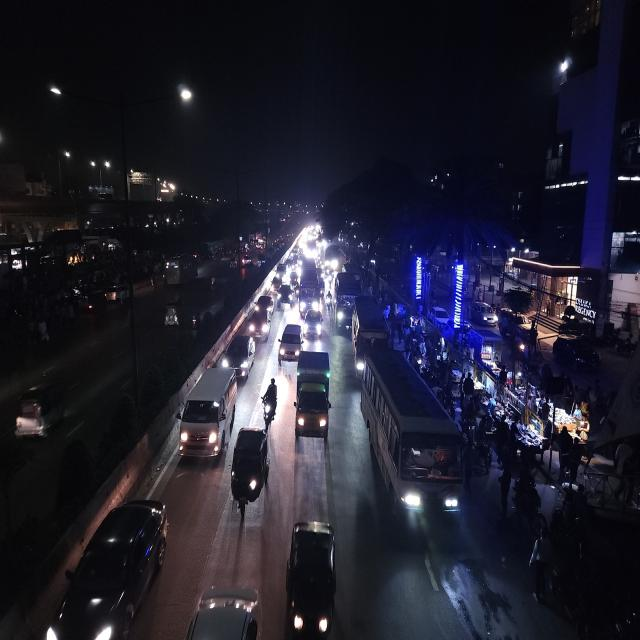bus: (361, 344, 465, 545), (348, 295, 388, 374), (334, 270, 360, 332), (300, 262, 320, 314), (164, 253, 194, 286), (324, 245, 342, 272)
car: (50, 492, 172, 639), (176, 365, 238, 464), (221, 332, 257, 380), (278, 320, 302, 365), (469, 297, 497, 326), (246, 311, 272, 341), (429, 304, 452, 335), (304, 306, 324, 340), (102, 282, 128, 306), (254, 292, 275, 318), (278, 283, 294, 309), (274, 261, 289, 285)
cng: (284, 515, 340, 639), (230, 424, 272, 519), (12, 377, 68, 440), (162, 298, 182, 331)
motorcycle: (262, 376, 278, 424), (84, 293, 96, 314), (326, 290, 334, 321)
truck: (294, 346, 332, 441)
